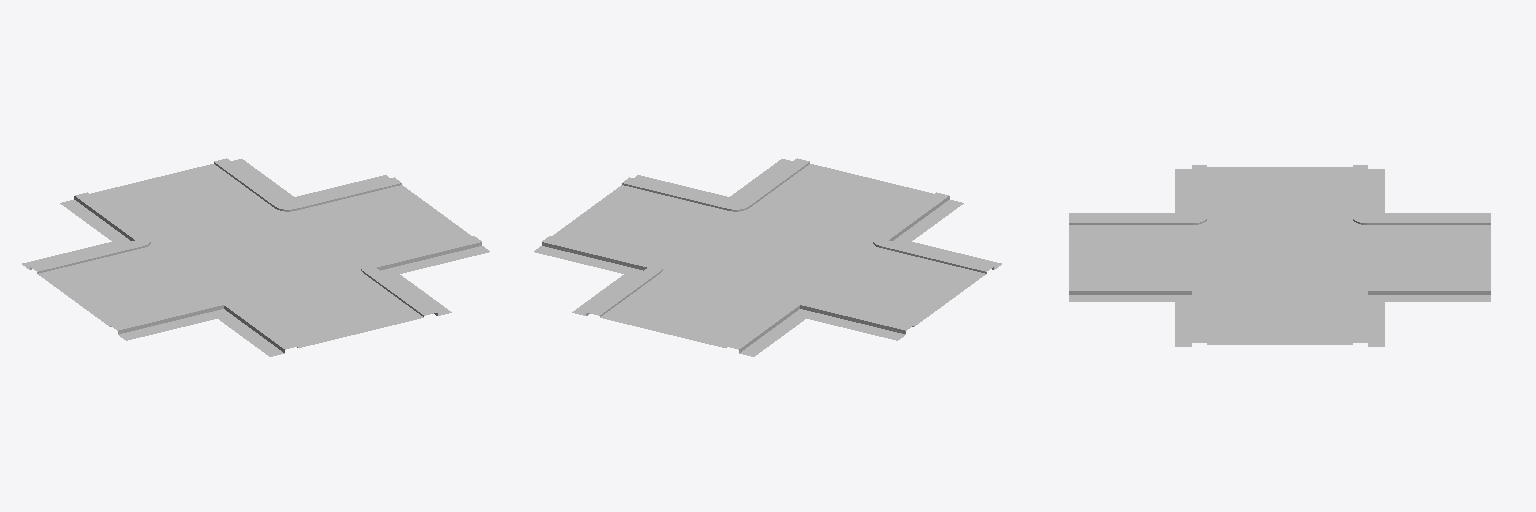
Rendered from roadCrossing.obj.
3 renders of one model, left to right at view 1: azimuth 30°, elevation 25°; view 2: azimuth 150°, elevation 25°; view 3: azimuth 270°, elevation 25°, orthographic.
Visible parts, largest first — view 1: roadCrossing; view 2: roadCrossing; view 3: roadCrossing.
Boxes of the visible parts, x1=… form: roadCrossing: x1=22, y1=158, x2=489, y2=356; roadCrossing: x1=534, y1=158, x2=1001, y2=356; roadCrossing: x1=1069, y1=165, x2=1490, y2=346.
Size of the model in its own units: 2 by 0.02 by 2.